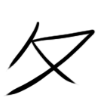ta: (2, 18, 98, 99)
